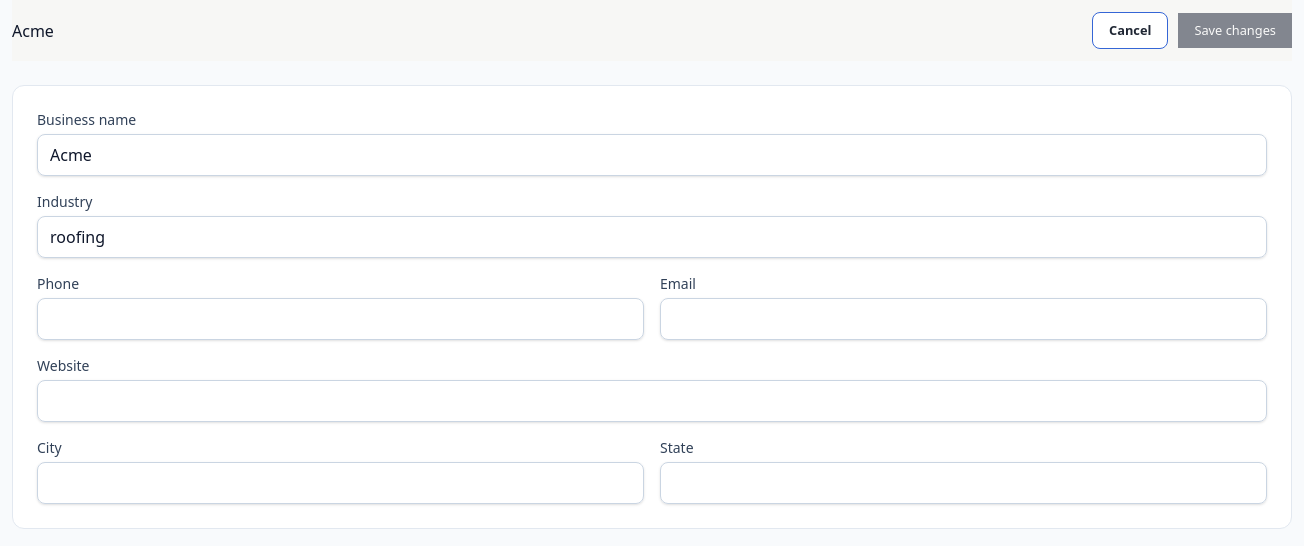
Test: shared create/edit business form › keeps the header's save button disabled until a field changes
Expected: the button "Save changes" is disabled, [1178,13,1292,48]
Type "555-0100" into the field labelled "Phone" at {"x": 340, "y": 319}, box [37,298,644,340]
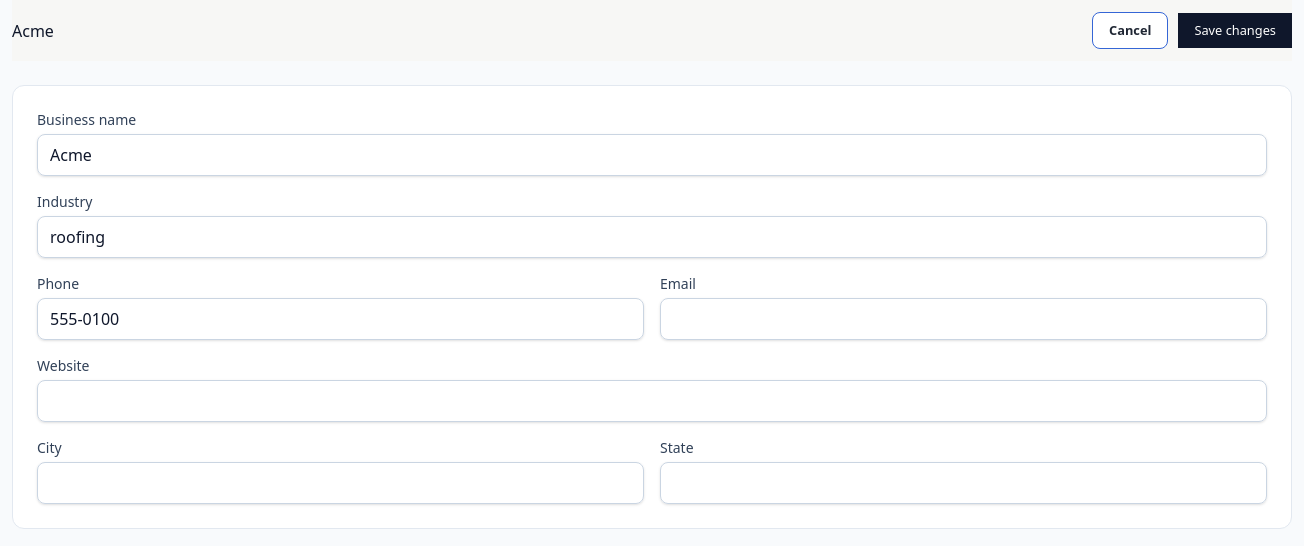
Expected: the button "Save changes" is enabled, [1178,13,1292,48]
